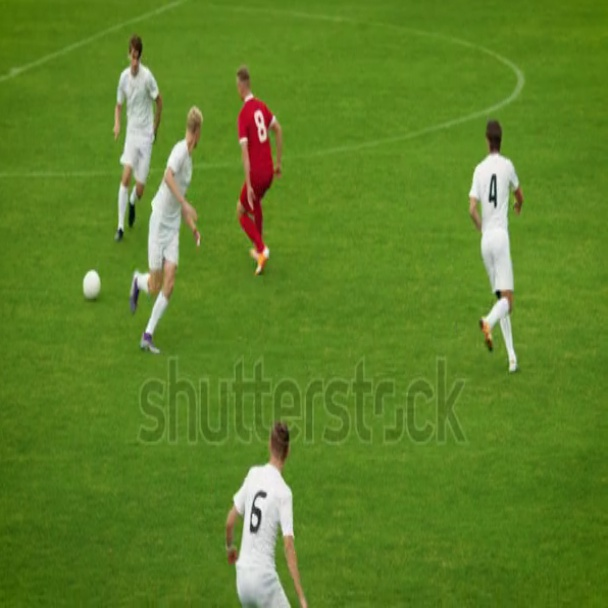ball: (85, 269, 103, 299)
